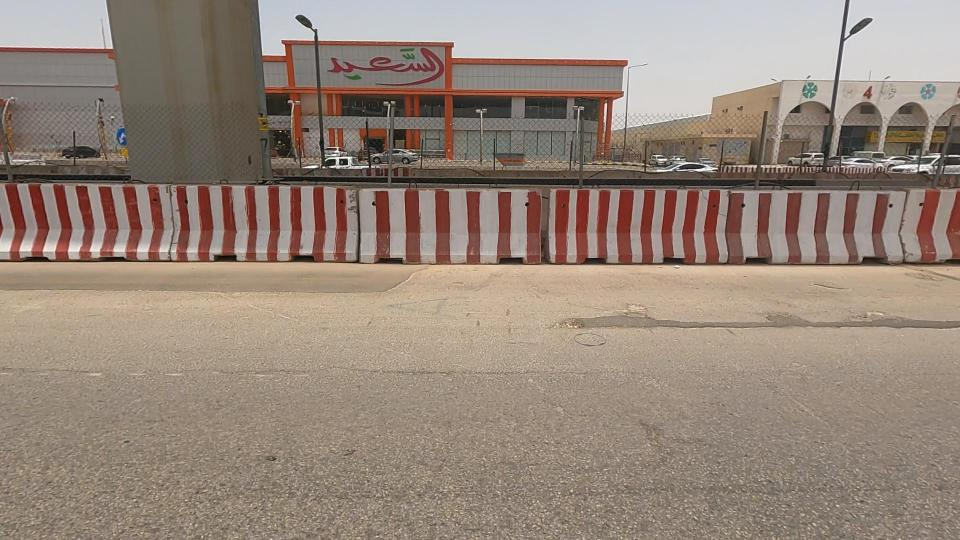CONSTRUCTION_ROAD: (309, 105, 925, 323), (0, 97, 567, 326)
